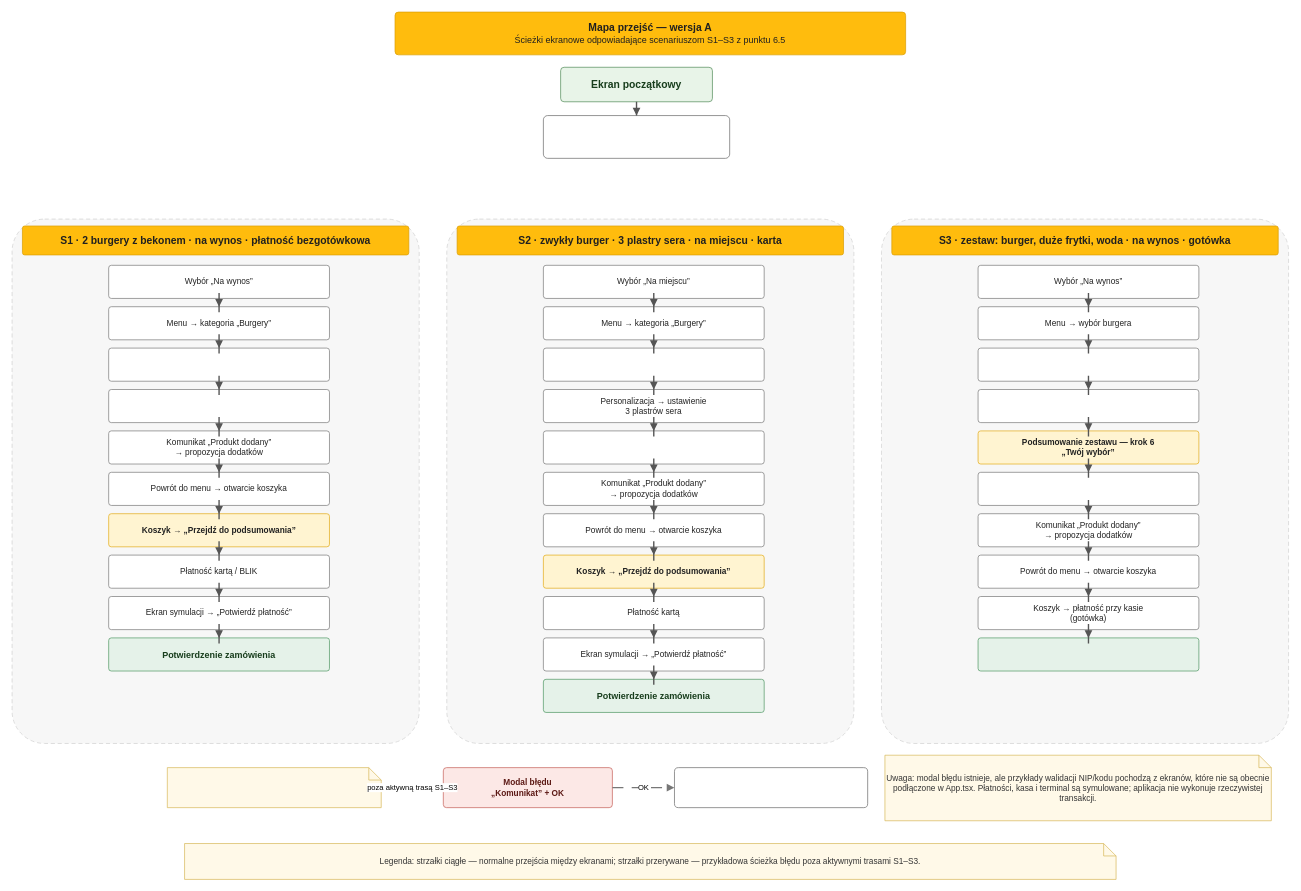
Some shapes in this 1301 by 891 pixel diagram are drawn without their labels. Here are the shapes that lost their labels. From the top down, the box of each, then its label:
(543, 115, 730, 158): Wybór języka i sposobu realizacji (na miejscu / na wynos)
(108, 347, 329, 381): Szczegóły burgera z bekonem → wybór opcji bez zestawu
(543, 347, 764, 381): Szczegóły zwykłego burgera
(977, 347, 1199, 381): Pytanie „A może jako zestaw?”
(108, 389, 329, 423): Dodanie 2 burgerów (dodanie produktu / ilość w koszyku)
(977, 389, 1199, 423): Konfigurator: duży rozmiar, frytki i woda
(543, 430, 764, 464): Zapisanie zmian → dodanie produktu
(977, 472, 1199, 505): Dodanie zestawu do zamówienia
(977, 637, 1199, 671): Potwierdzenie zamówienia (symulowane)
(167, 767, 381, 808): Przykładowa błędna walidacja (NIP lub kod — ekran niepodłączony)
(674, 767, 868, 808): Zamknięcie → powrót do poprzedniego widoku
